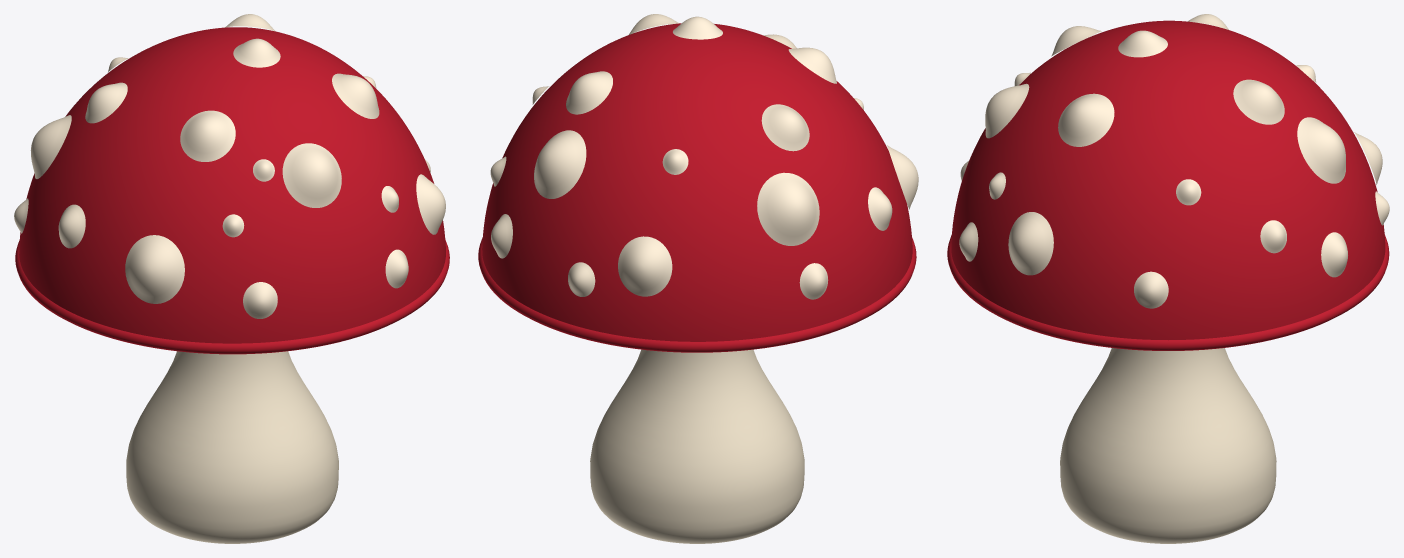
File: mushroom-lamp.glb
The picture shows the model from 3 angles, left to right: view 1: azimuth 30°, elevation 25°; view 2: azimuth 150°, elevation 25°; view 3: azimuth 270°, elevation 25°; orthographic projection.
Visible parts, largest first — view 1: Cap, Stem, Light-windows, Rolled-cap-rim; view 2: Cap, Stem, Light-windows, Rolled-cap-rim; view 3: Cap, Stem, Light-windows, Rolled-cap-rim.
Part boxes in pixels (x1,y1,x2,y2): Cap: (19, 27, 445, 343); Stem: (126, 351, 338, 543); Light-windows: (14, 14, 445, 318); Rolled-cap-rim: (15, 240, 449, 354); Cap: (482, 23, 912, 341); Stem: (590, 349, 804, 543); Light-windows: (490, 14, 918, 299); Rolled-cap-rim: (478, 237, 916, 352); Cap: (951, 20, 1385, 340); Stem: (1060, 348, 1276, 543); Light-windows: (959, 14, 1389, 308); Rolled-cap-rim: (947, 234, 1389, 350).
Size of the model in its own units: 3.52 by 4.29 by 3.52.
